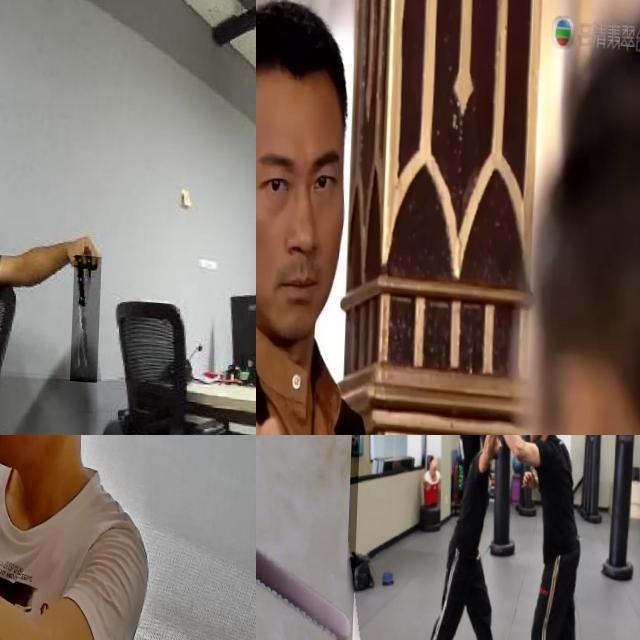-: (256, 435, 391, 640), (74, 250, 104, 378), (487, 435, 525, 453)
gun-knife-thesis - v11 Yolov5 augmented: (0, 435, 64, 582), (256, 260, 307, 410)
